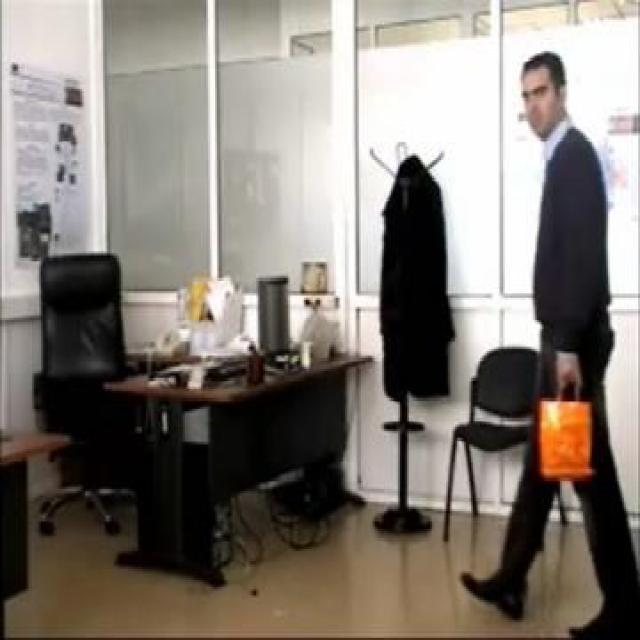other: (536, 384, 598, 476)
